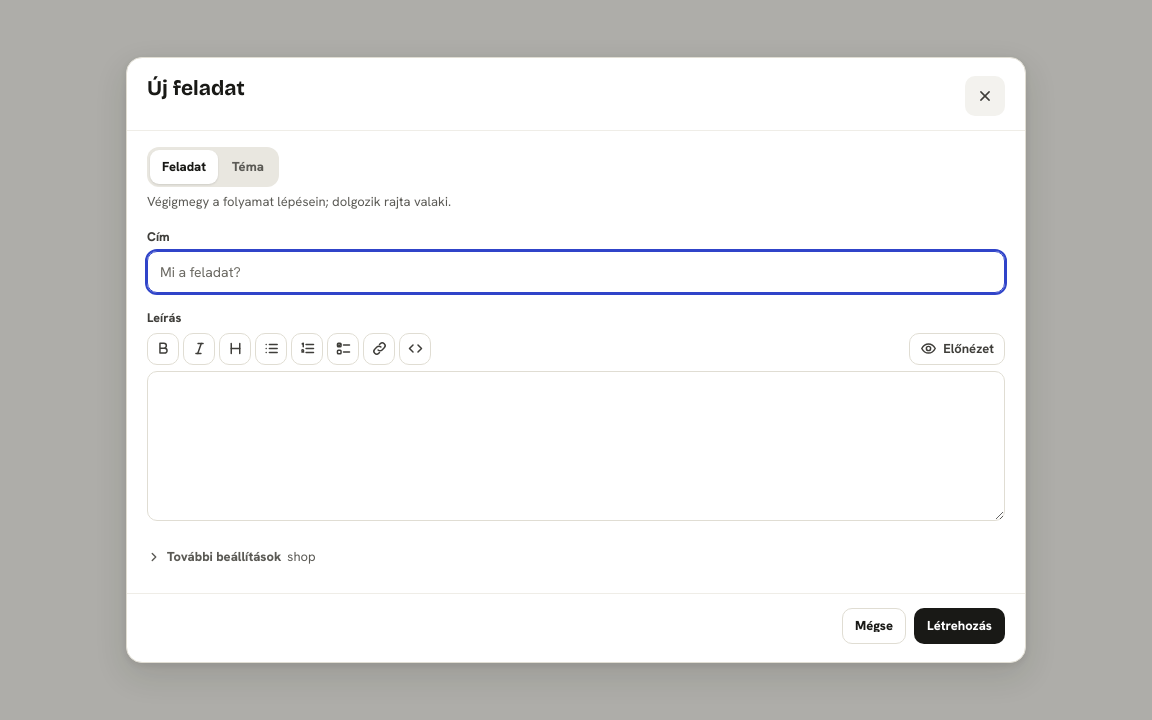
the new task form › keeps the repo and theme under "More settings", showing their values while it is closed
Click the heading "További beállítások shop": (231, 556) [147,548,316,564]
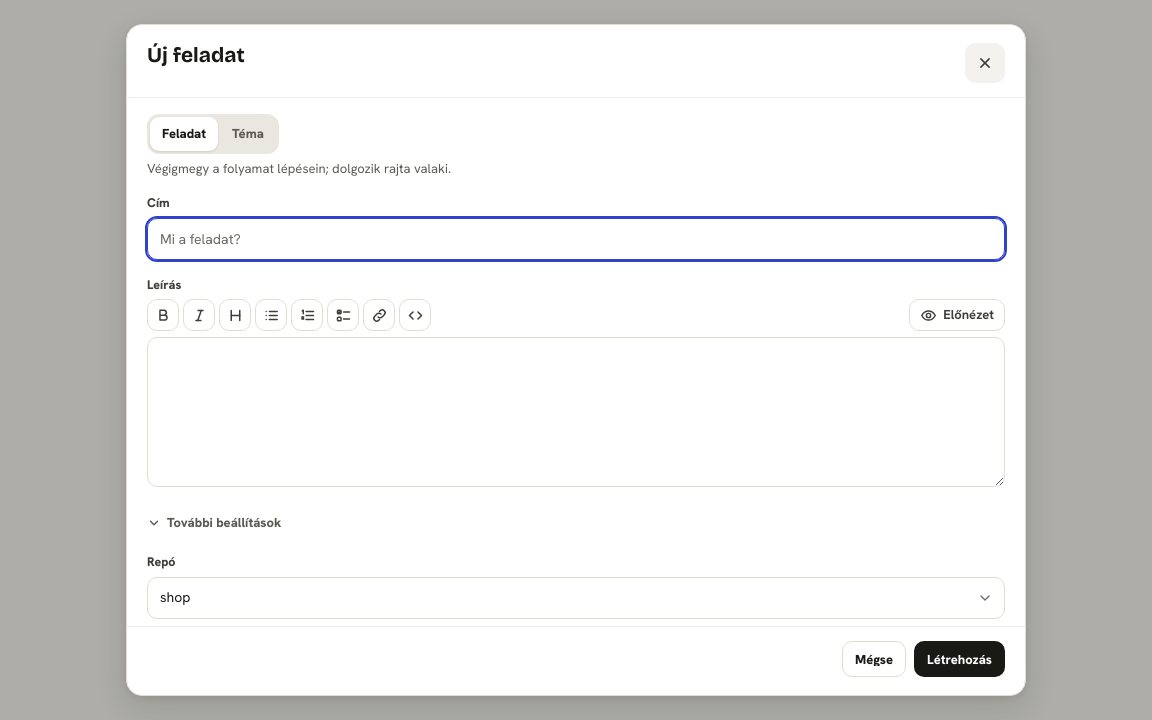
Now the heading "További beállítások" is expanded, box [147,514,281,531]
